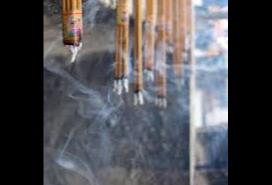controlled_fire: (64, 39, 210, 116)
